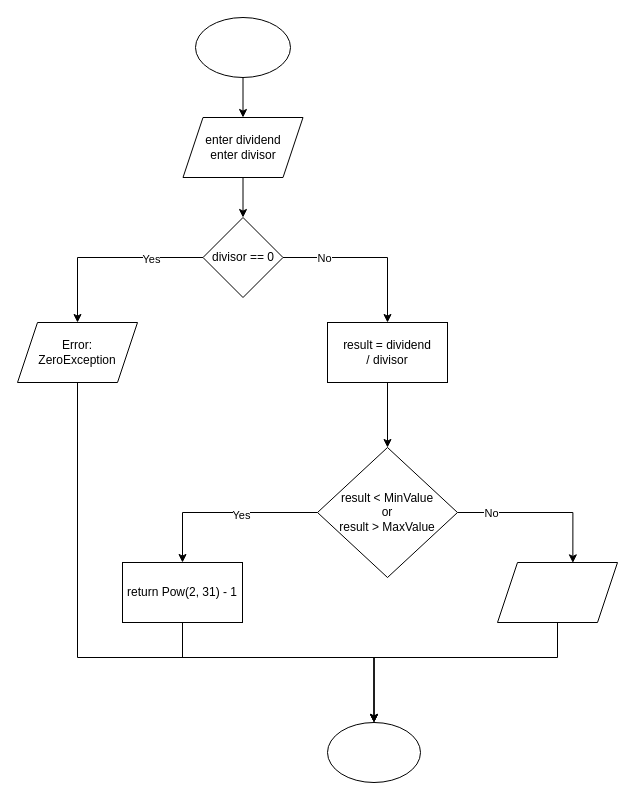
Some shapes in this 635 by 800 pixel diagram are drawn without their labels. Each missing label, with the centre of its shape:
End: the point at 373,752
return(int) result: the point at 557,592
Start: the point at 242,47
